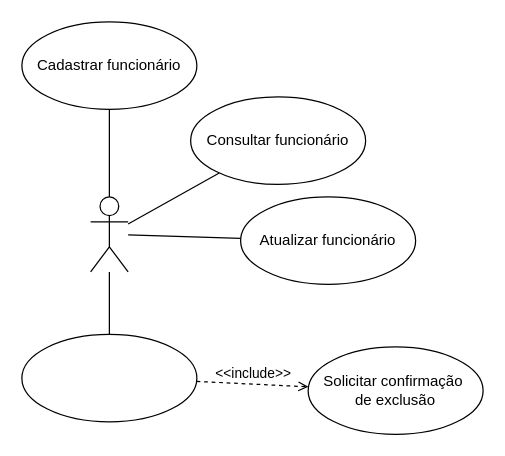
Image size: 505x456. Some labels were removed from this diagram. The shapes that lost their labels are listed below. From the top down, each one's centre as x and y in pixels, then its label:
At [108,234]: "Usuárío".
At [109,377]: "Deletar funcionario".
